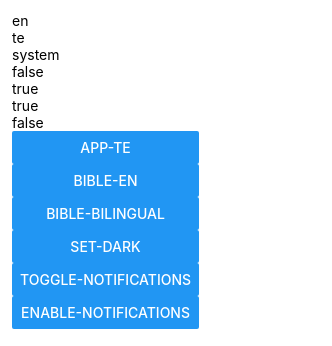
Test: PreferencesContext › disabling notifications persists locally and syncs when signed in
This screenshot has width=332, height=346.
Expected: the text with test id "isLoaded" reads "true", [12,97,38,114]
Click the button with test id "disable-notifications": (106, 280) [12,263,199,296]
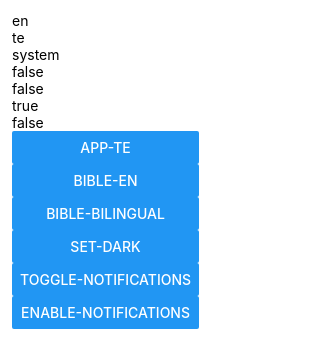
Expected: the text "false" is shown, [12,63,44,80]
Expected: the text with test id "notifications" reads "false", [12,80,44,97]
